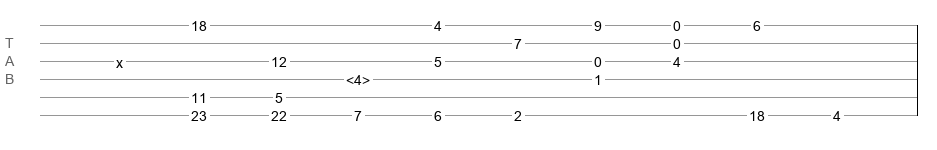0: (594, 54, 602, 64), (673, 36, 681, 46), (673, 18, 681, 28)
1: (594, 72, 602, 82)
11: (191, 90, 207, 100)
12: (271, 54, 287, 64)
18: (191, 18, 207, 28), (749, 108, 765, 118)
2: (514, 108, 522, 118)
22: (271, 108, 287, 118)
23: (191, 108, 207, 118)
4: (434, 18, 442, 28), (673, 54, 681, 64), (833, 108, 841, 118)
5: (275, 90, 283, 100), (434, 54, 442, 64)
6: (434, 108, 442, 118), (753, 18, 761, 28)
7: (354, 108, 362, 118), (514, 36, 522, 46)
9: (594, 18, 602, 28)
harmonic: (346, 72, 370, 82)
x: (116, 55, 123, 63)
